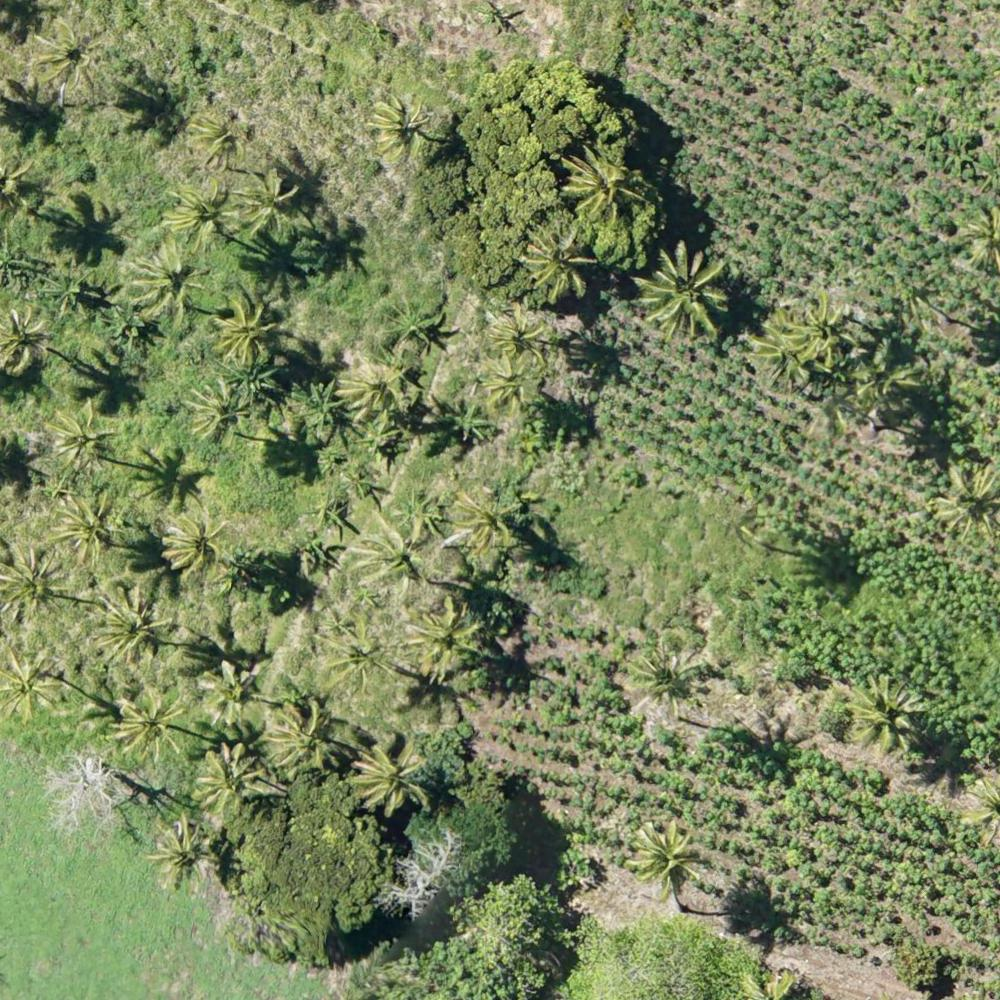Palm: (641, 245, 729, 344), (263, 696, 348, 776), (312, 613, 392, 695), (848, 674, 925, 756), (346, 743, 432, 815), (561, 149, 642, 223), (350, 512, 426, 590), (115, 688, 189, 767), (523, 218, 595, 299), (90, 588, 164, 665), (197, 746, 269, 823), (128, 254, 203, 325), (626, 818, 701, 888), (34, 18, 104, 93), (628, 644, 700, 716), (1, 546, 72, 619), (168, 181, 242, 250), (52, 495, 123, 565), (43, 406, 115, 475), (206, 295, 280, 362), (161, 512, 232, 581), (3, 646, 67, 719), (793, 294, 862, 361), (937, 465, 1000, 538), (450, 489, 519, 555), (409, 604, 476, 669), (154, 821, 218, 889), (371, 93, 436, 159), (747, 315, 809, 381), (199, 663, 261, 726), (478, 356, 541, 417), (238, 172, 299, 234), (487, 310, 550, 369), (187, 381, 243, 446), (339, 363, 404, 418), (1, 311, 55, 374), (187, 113, 242, 166)
